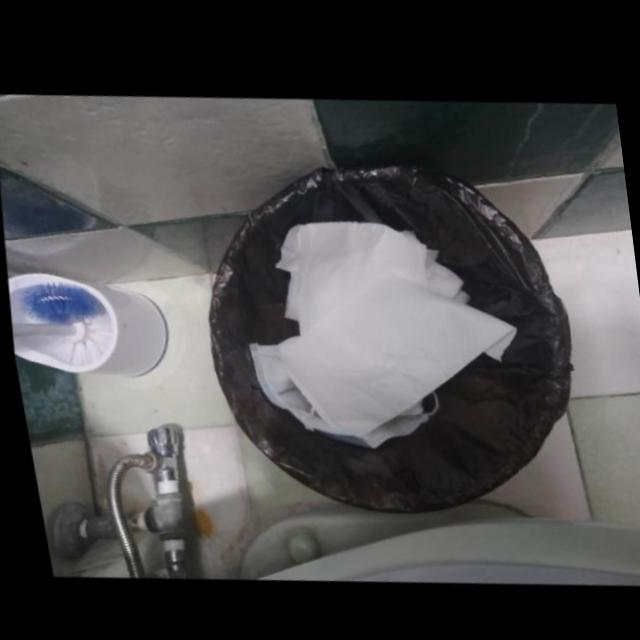giay: (272, 272, 512, 435), (271, 217, 465, 332)
khau_trang: (244, 341, 434, 446)
